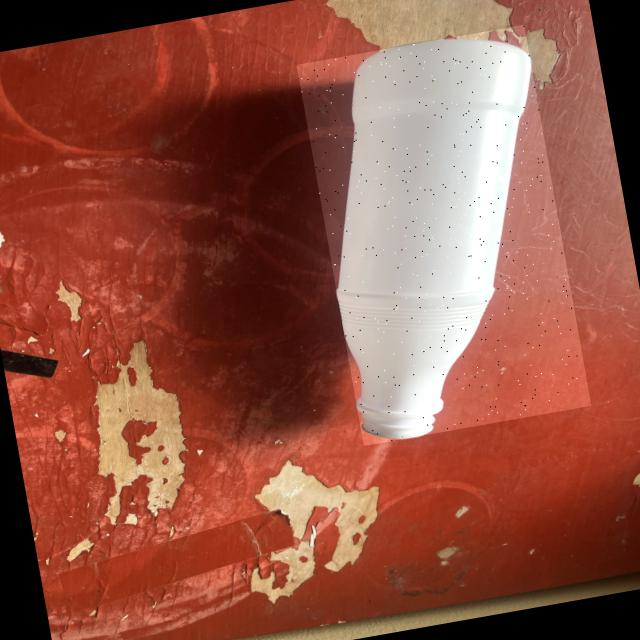HDPE_Bottle: (337, 39, 531, 437)
